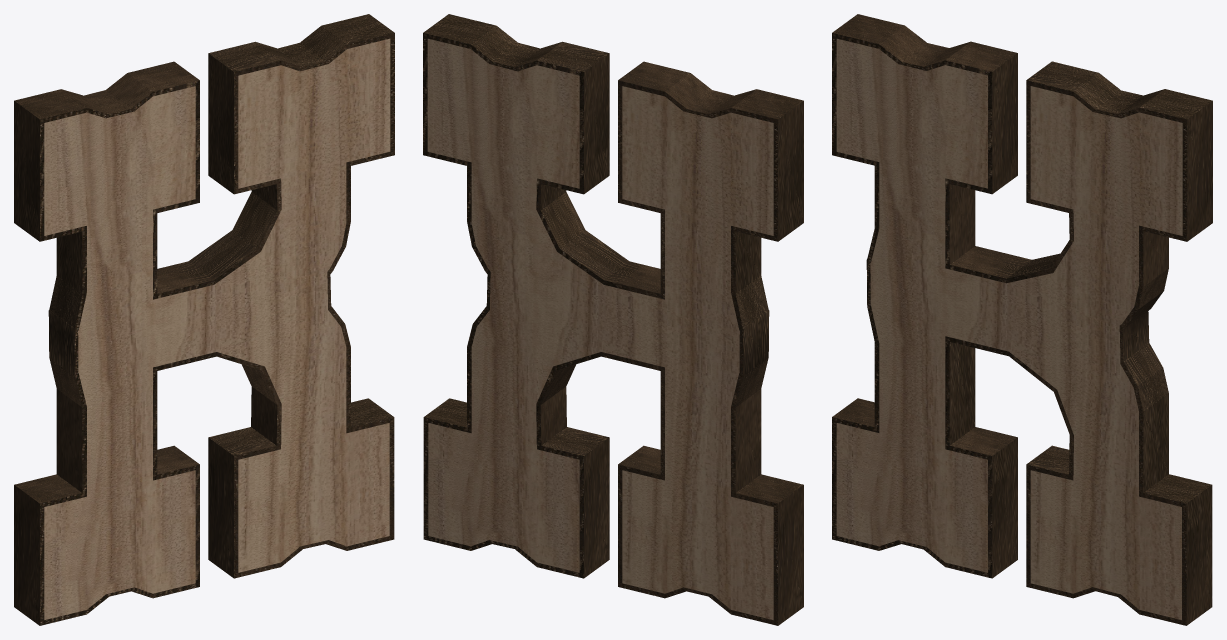
3 renders of one model, left to right at view 1: azimuth 30°, elevation 25°; view 2: azimuth 150°, elevation 25°; view 3: azimuth 330°, elevation 25°, orthographic.
Visible parts, largest first — view 1: K, K_outline; view 2: K, K_outline; view 3: K, K_outline.
Boxes of the visible parts, x1,y1,x2,y2 form: K: [44, 38, 390, 619]; K_outline: [14, 14, 394, 625]; K: [427, 38, 773, 619]; K_outline: [423, 14, 803, 625]; K: [836, 38, 1182, 619]; K_outline: [832, 14, 1212, 625].
Size of the model in its own units: 79.79 by 109 by 10.
Materials: 2 (2 with a texture image).
